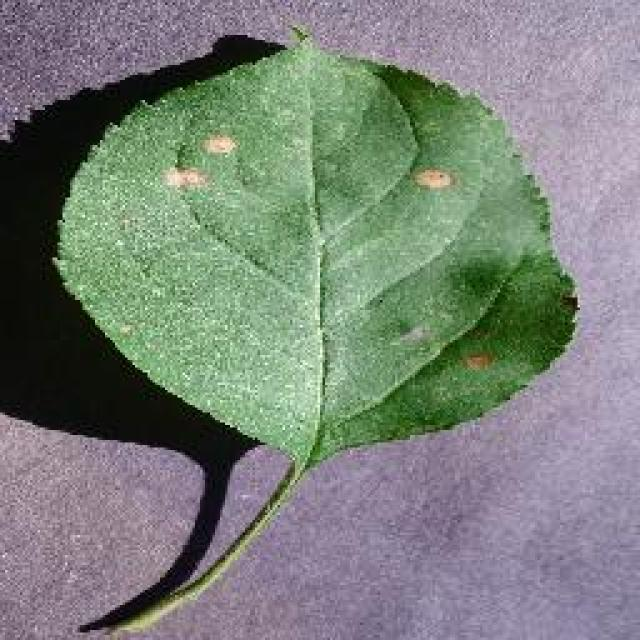apple healthy: (0, 25, 580, 635)
